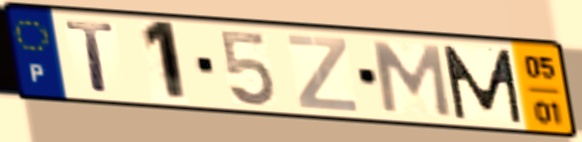1: (139, 19, 192, 107)
5: (217, 28, 278, 108)
M: (438, 43, 527, 126), (369, 39, 455, 121)
T: (62, 19, 120, 96)
Z: (283, 32, 361, 114)
